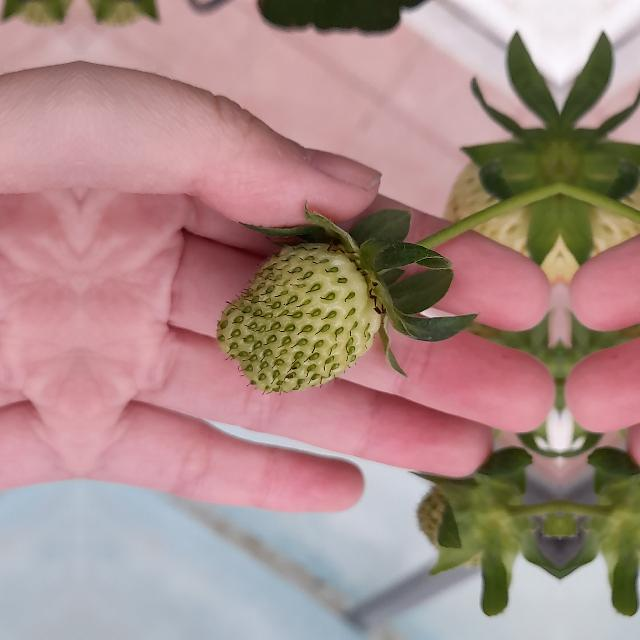Health_25: (216, 242, 380, 392)
